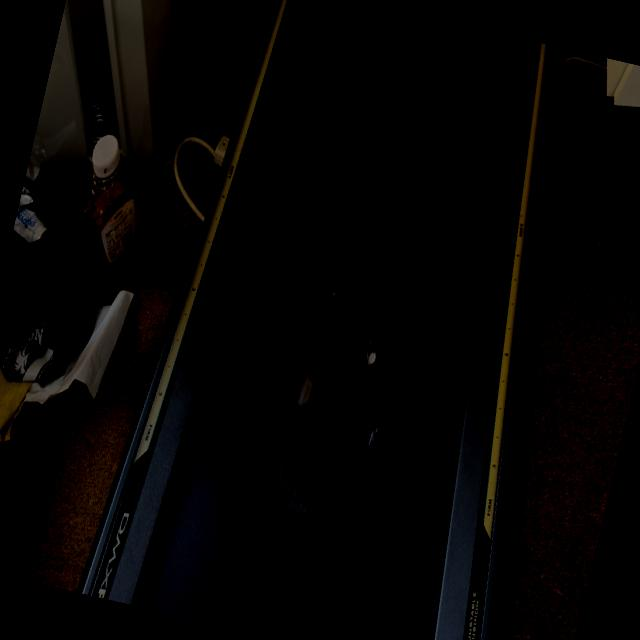Trash: (266, 251, 424, 536)
